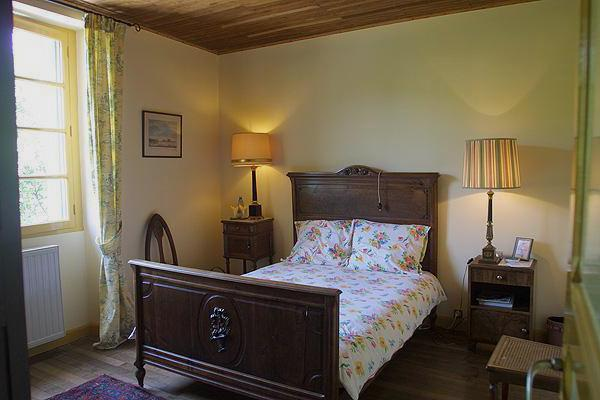Otro Obstaculo: (25, 244, 64, 352)
